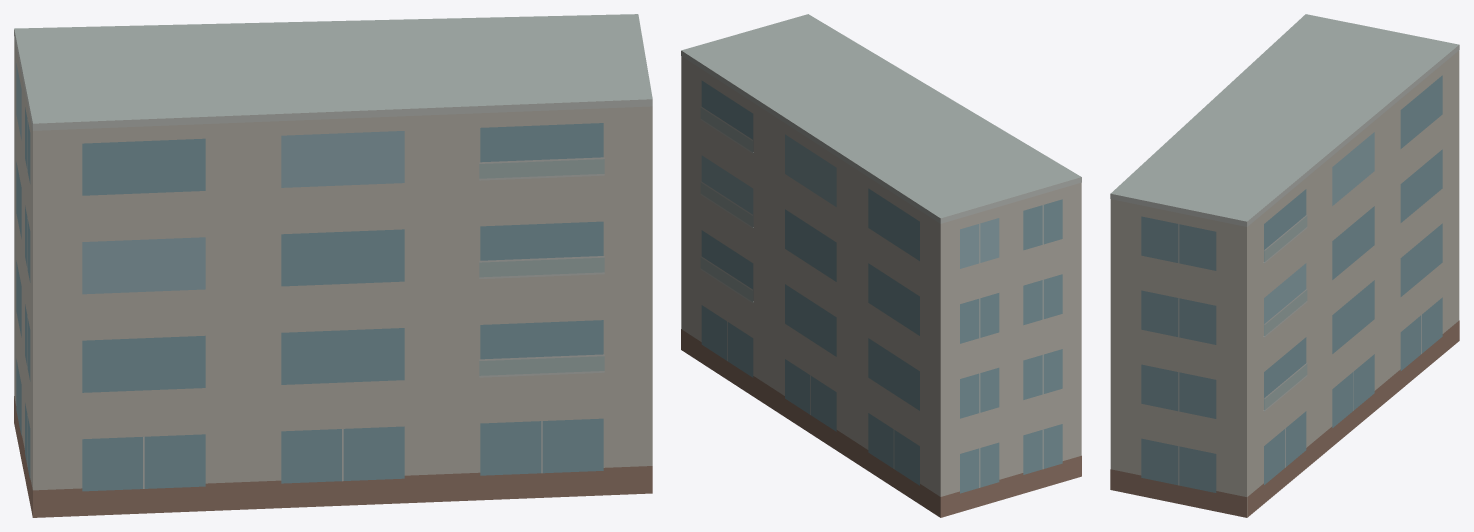
File: survey-upis-32733900.glb
3 renders of one model, left to right at view 1: azimuth 30°, elevation 25°; view 2: azimuth 150°, elevation 25°; view 3: azimuth 270°, elevation 25°, orthographic. The views are drawn at different scales.
Visible parts, largest first — view 1: survey-upis-32733900.tmp; view 2: survey-upis-32733900.tmp; view 3: survey-upis-32733900.tmp.
Part boxes in pixels (left/top/right/bottom): survey-upis-32733900.tmp: left=14, top=14, right=652, bottom=517; survey-upis-32733900.tmp: left=681, top=14, right=1081, bottom=517; survey-upis-32733900.tmp: left=1110, top=14, right=1459, bottom=517.
Size of the model in its own units: 20.16 by 13.4 by 14.32.
